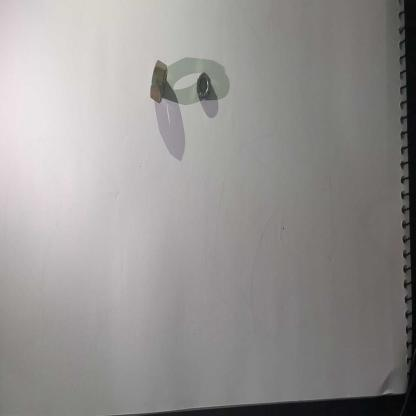NUTS: (192, 64, 225, 108), (147, 52, 170, 110)
